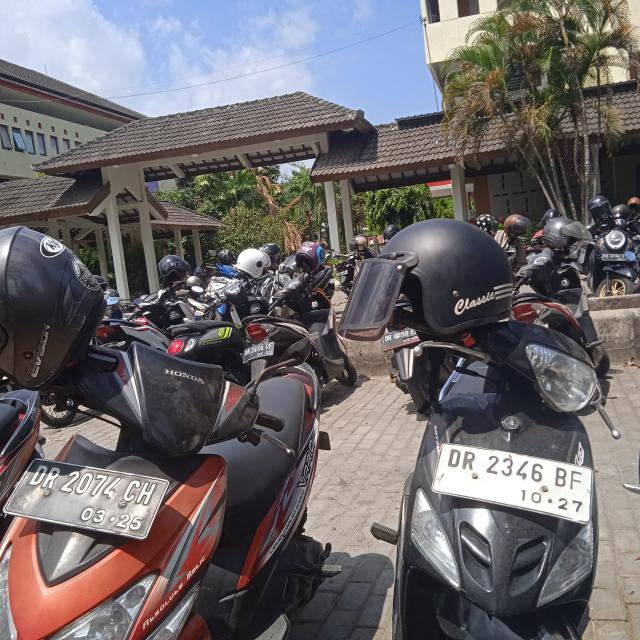plate: (3, 456, 170, 542), (433, 446, 595, 527)
